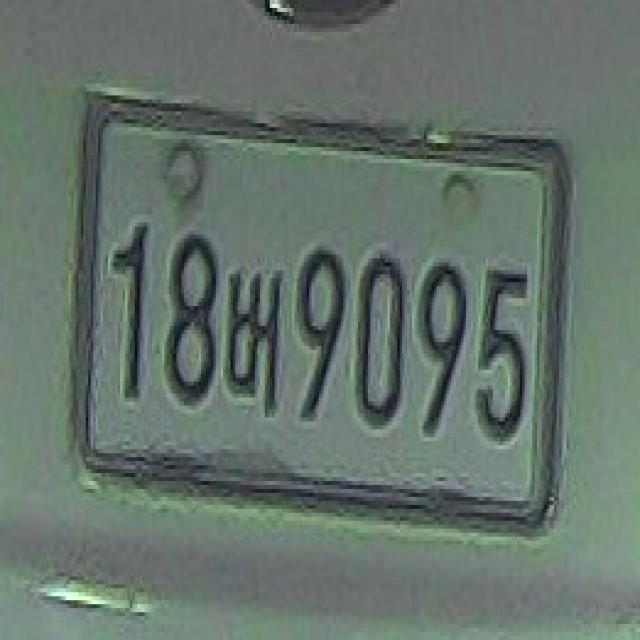0: (353, 243, 412, 442)
1: (103, 214, 154, 413)
5: (471, 258, 532, 450)
8: (160, 218, 223, 418)
9: (289, 230, 351, 430), (414, 250, 468, 446)
beo: (223, 254, 287, 422)
license_plate: (66, 83, 572, 540)
